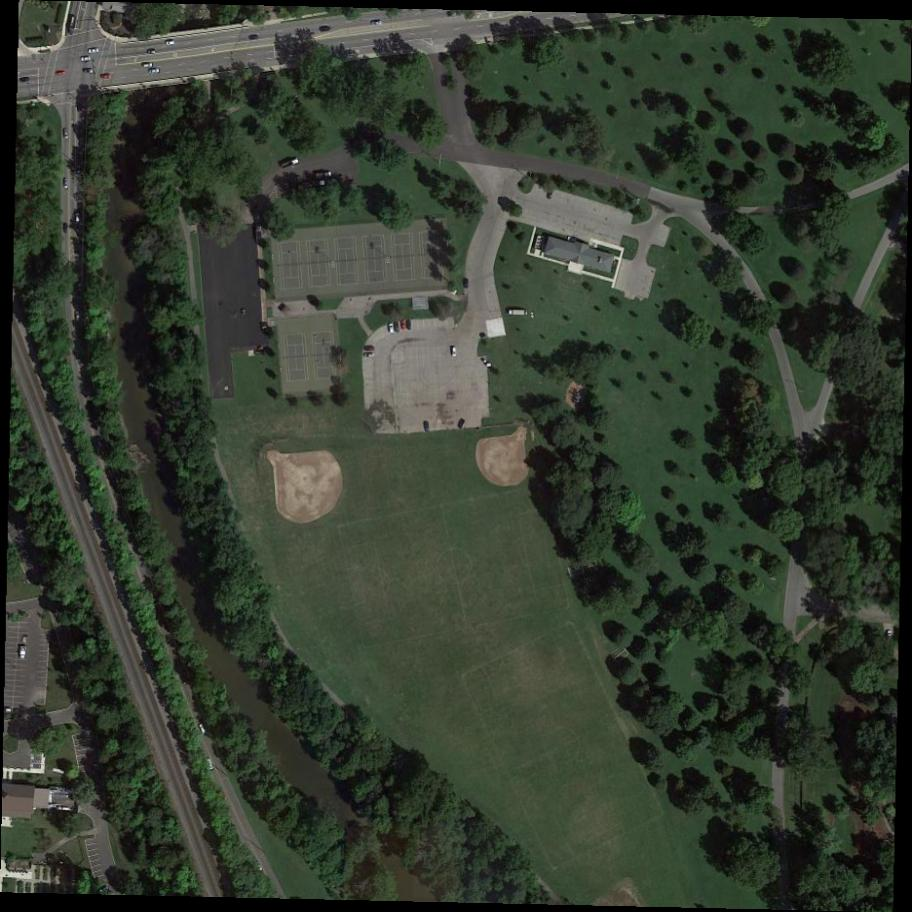small-vehicle: (205, 757, 215, 772), (371, 19, 383, 27), (319, 25, 331, 33), (248, 34, 260, 42), (100, 74, 113, 81), (199, 723, 207, 734), (149, 68, 161, 75), (81, 55, 91, 63), (394, 321, 400, 334), (451, 347, 458, 358), (388, 323, 395, 334), (19, 77, 31, 83), (424, 421, 430, 433), (56, 70, 66, 77), (88, 48, 99, 54), (143, 63, 154, 69), (364, 353, 375, 359), (64, 128, 69, 141), (166, 40, 175, 47), (83, 69, 94, 74), (406, 320, 411, 331), (401, 320, 406, 331), (64, 178, 68, 191), (62, 224, 67, 234), (75, 212, 80, 222), (464, 279, 469, 288), (364, 347, 375, 351), (148, 50, 155, 55), (76, 313, 80, 321)
